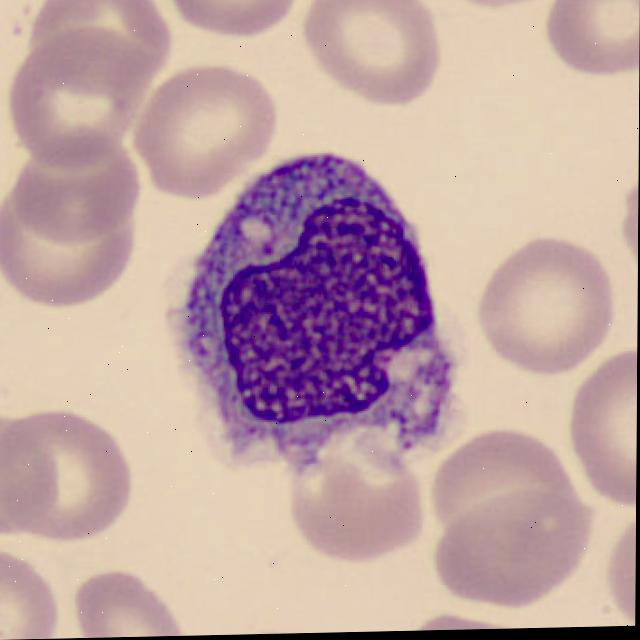monocyte: (169, 119, 472, 492)
rbc: (0, 171, 140, 310), (13, 28, 140, 163), (290, 433, 423, 559), (141, 69, 276, 193), (483, 242, 613, 367), (448, 486, 586, 603), (2, 408, 125, 539), (303, 0, 443, 103), (14, 132, 137, 236), (32, 0, 170, 91), (571, 344, 637, 505), (437, 435, 558, 522), (0, 410, 62, 536), (77, 571, 176, 638), (557, 0, 640, 76), (0, 551, 56, 640), (168, 0, 300, 32), (606, 514, 636, 626), (415, 607, 509, 630), (621, 178, 639, 264), (447, 0, 546, 8)
